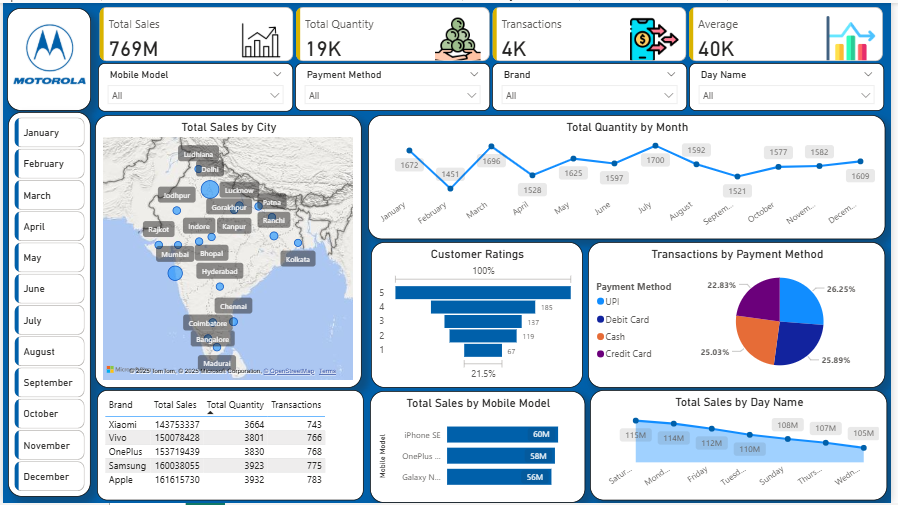

The page's visual inventory and layout, read from the dashboard file:
{"tool":"powerbi","page":{"name":"Page 1","canvas":[1280,720],"ordinal":0},"visuals":[{"type":"shape","box":[8.8,8.8,116.2,145],"z":0},{"type":"image","box":[0,21.2,131.2,118.8],"z":1000},{"type":"shape","box":[8.6,165.6,116.6,538.6],"z":2000},{"type":"advancedSlicerVisual","fields":{"Values":["Sheet1.Date.Variation.Date Hierarchy.Month"]},"box":[14.4,184.3,105.1,501.1],"z":3000},{"type":"cardVisual","fields":{"Data":["Sheet1.Total Sales","Sales_data.Total Quantity","Sales_data.Transactions","Sales_data.Avrage"]},"box":[125.3,8.6,1154.9,87.8],"z":4000},{"type":"filledMap","fields":{"Category":["Sales_data.City"],"Y":["Sales_data.Total Sales"]},"box":[131,96.5,354.2,450.7],"z":5000},{"type":"actionButton","box":[0,0,100,40],"z":6000},{"type":"lineChart","fields":{"Category":["Sales_data.Date.Variation.Date Hierarchy.Month","Sales_data.Date.Variation.Date Hierarchy.Day"],"Y":["Sales_data.Total Quantity"]},"box":[495.4,96.5,773.3,210.2],"z":6001},{"type":"clusteredBarChart","fields":{"Category":["Sales_data.Mobile Model"],"Y":["Sales_data.Total Sales"]},"box":[495.4,547.2,288,157],"z":6002},{"type":"pieChart","fields":{"Category":["Sales_data.Payment Method"],"Y":["Sales_data.Transactions"]},"box":[795.5,319.2,473,183.3],"z":6003},{"type":"funnel","title":" Customer Ratings","fields":{"Category":["Sales_data.Customer Ratings"],"Y":["CountNonNull(Sales_data.Customer Ratings)"]},"box":[495.4,319.7,288,214.6],"z":6004},{"type":"areaChart","fields":{"Y":["Sales_data.Total Sales"],"Category":["Sales_data.Day Name"]},"box":[794.9,519.8,473.8,182.9],"z":6005},{"type":"tableEx","fields":{"Values":["Sales_data.Brand","Sales_data.Total Sales","Sales_data.Total Quantity","Sales_data.Transactions"]},"box":[131,558.7,354.2,145.4],"z":6006}]}

Visuals, with their boxes in screenshot pixels (x1, y1, x2, y2), scaled from the page's 1280x720 canvas onto the 898x505 screenshot:
shape: bbox=(6, 6, 88, 108)
image: bbox=(0, 15, 92, 98)
shape: bbox=(6, 116, 88, 494)
advancedSlicerVisual - Sheet1.Date.Variation.Date Hierarchy.Month: bbox=(10, 129, 84, 481)
cardVisual - Sheet1.Total Sales x Sales_data.Total Quantity: bbox=(88, 6, 897, 68)
filledMap - Sales_data.City x Sales_data.Total Sales: bbox=(92, 68, 340, 384)
actionButton: bbox=(0, 0, 70, 28)
lineChart - Sales_data.Date.Variation.Date Hierarchy.Month x Sales_data.Date.Variation.Date Hierarchy.Day: bbox=(348, 68, 890, 215)
clusteredBarChart - Sales_data.Mobile Model x Sales_data.Total Sales: bbox=(348, 384, 550, 494)
pieChart - Sales_data.Payment Method x Sales_data.Transactions: bbox=(558, 224, 890, 352)
" Customer Ratings" funnel: bbox=(348, 224, 550, 375)
areaChart - Sales_data.Total Sales x Sales_data.Day Name: bbox=(558, 365, 890, 493)
tableEx - Sales_data.Brand x Sales_data.Total Sales: bbox=(92, 392, 340, 494)
